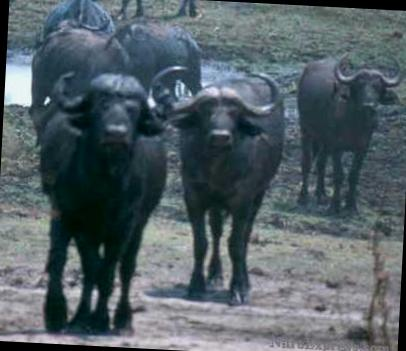Buffalo: (29, 0, 406, 338)
